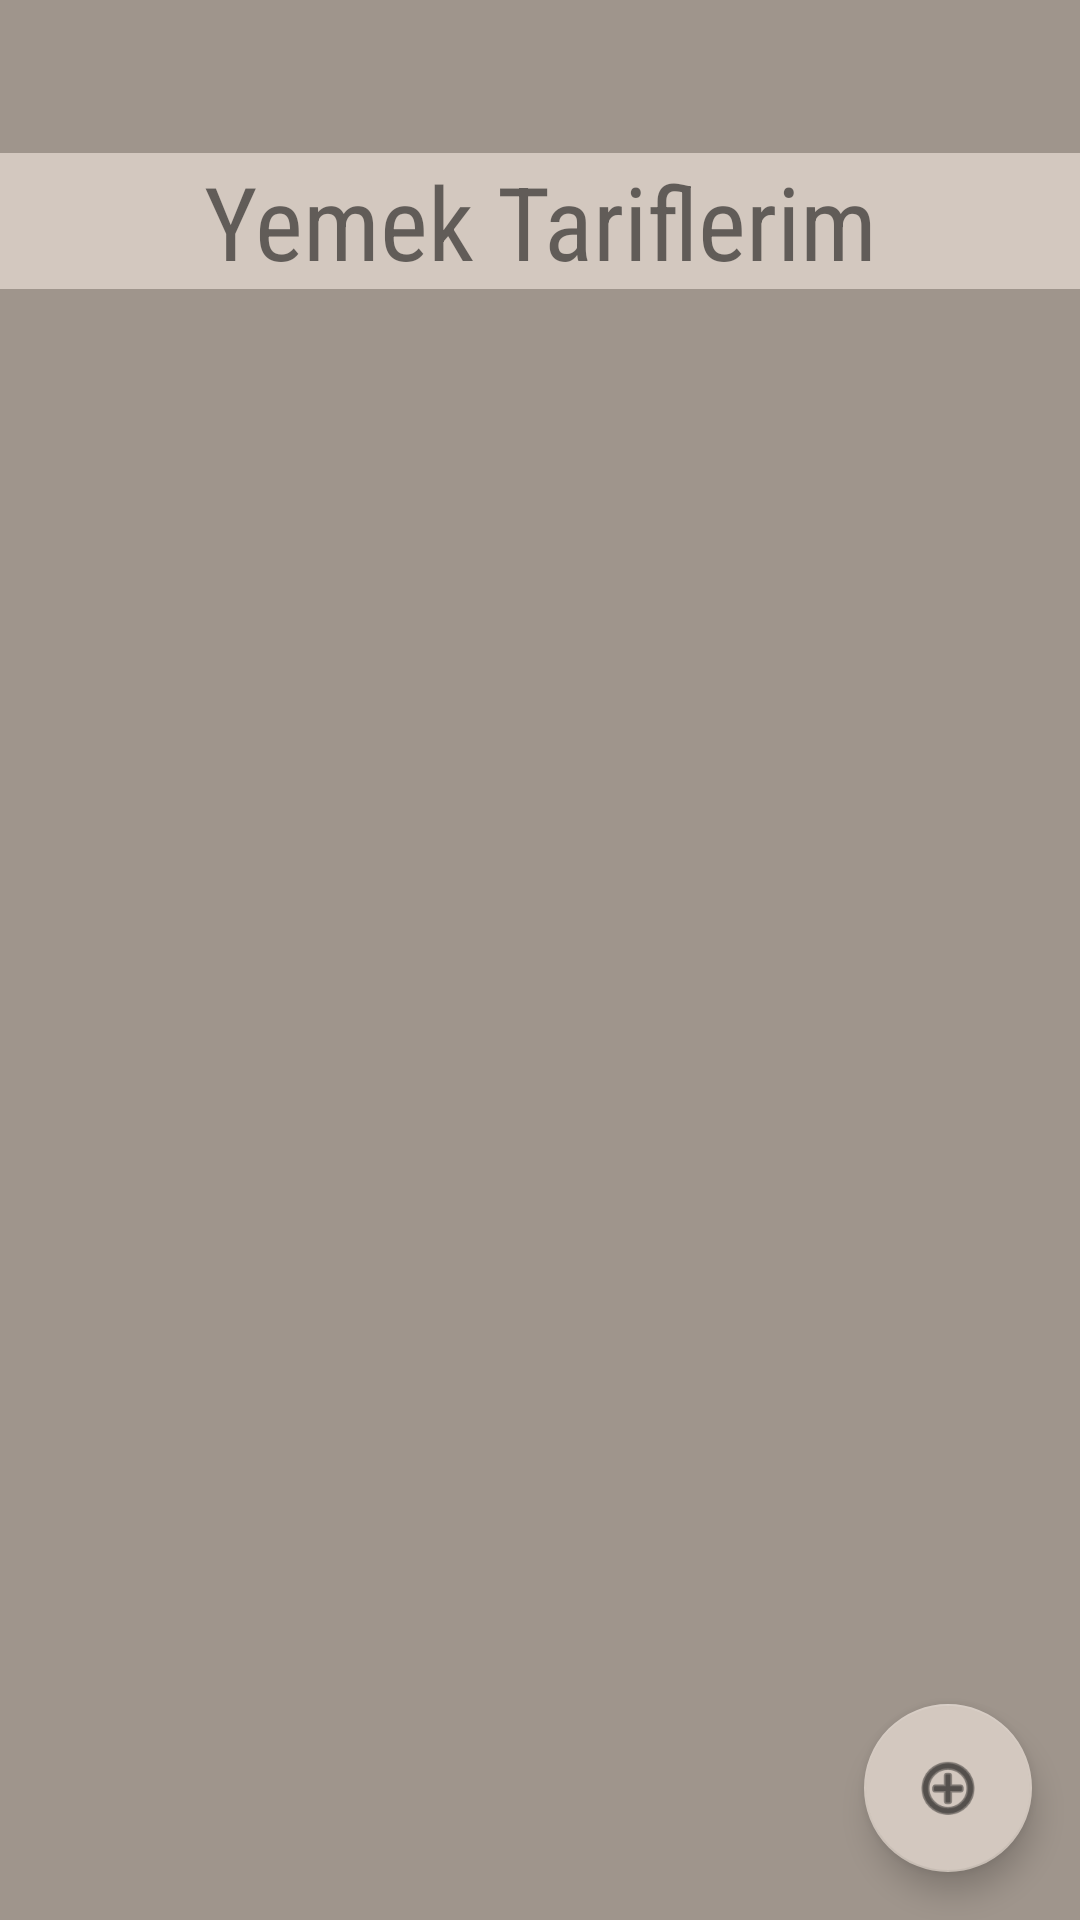

Named icons in this screenshot (1080*1920) and their bounding boxes, (x1, y1, x2, y2):
ekleme butonu: (864, 1704, 1032, 1872)
